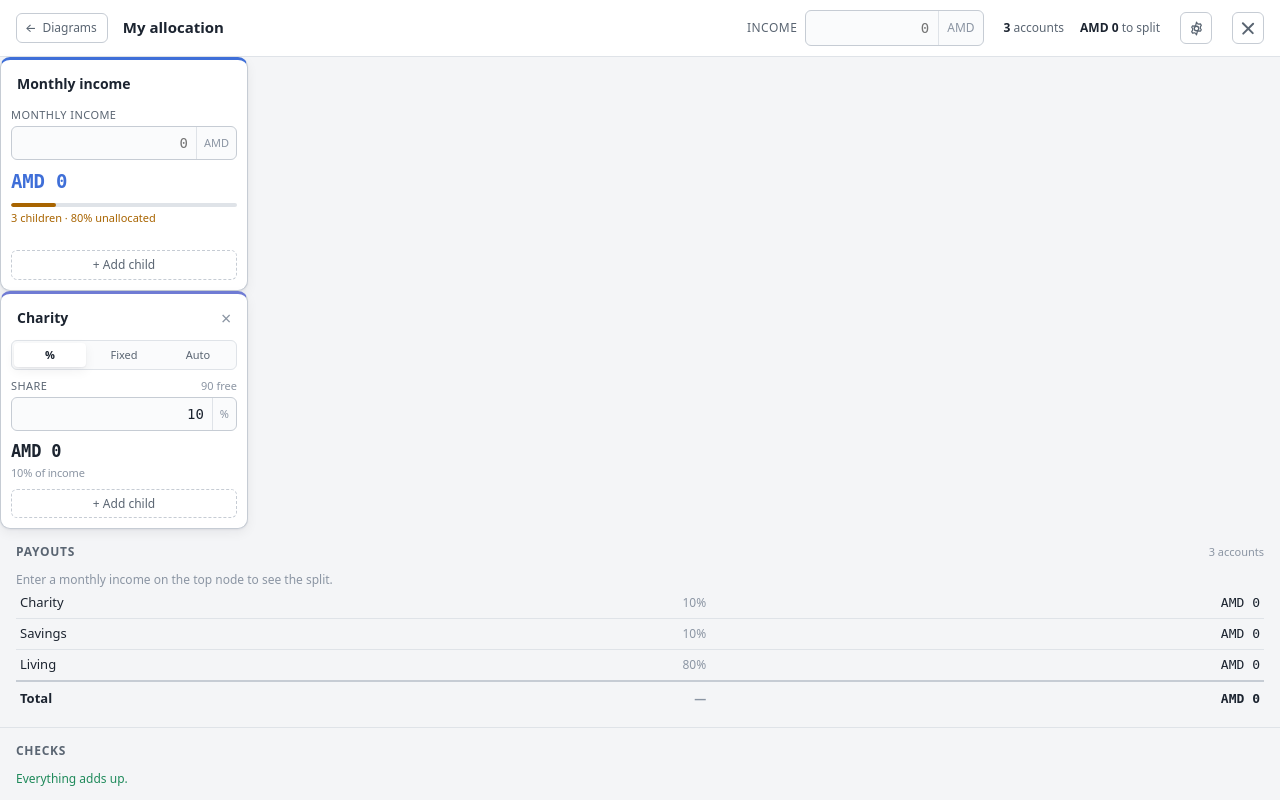
it: editing a node › clamps a percentage to the group headroom as it is typed
Replace the text in the field named "Percentage share" with "150" at (112, 414), box x1=12 y1=398 x2=212 y2=430
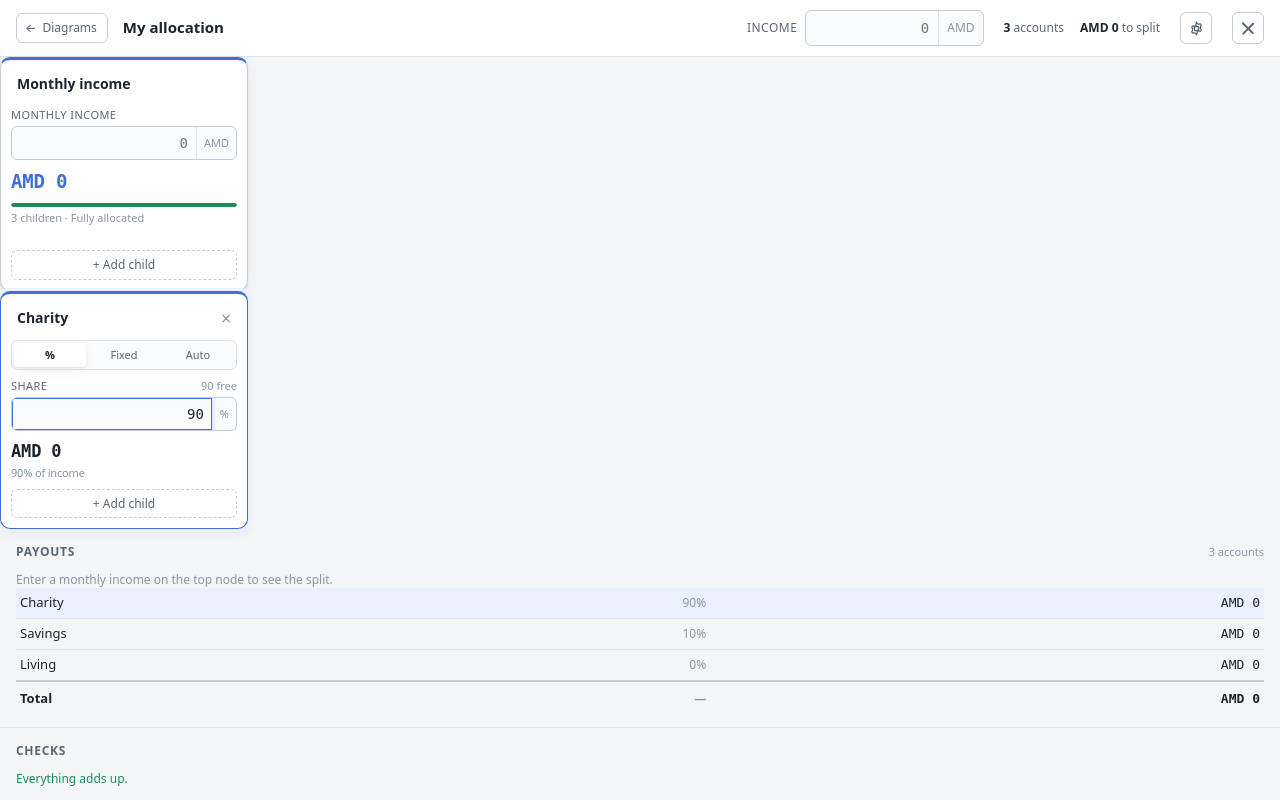
Now the field named "Percentage share" holds "90", box x1=12 y1=398 x2=212 y2=430
